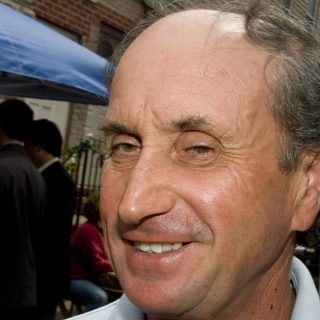eye: (176, 139, 225, 163), (106, 135, 141, 162)
